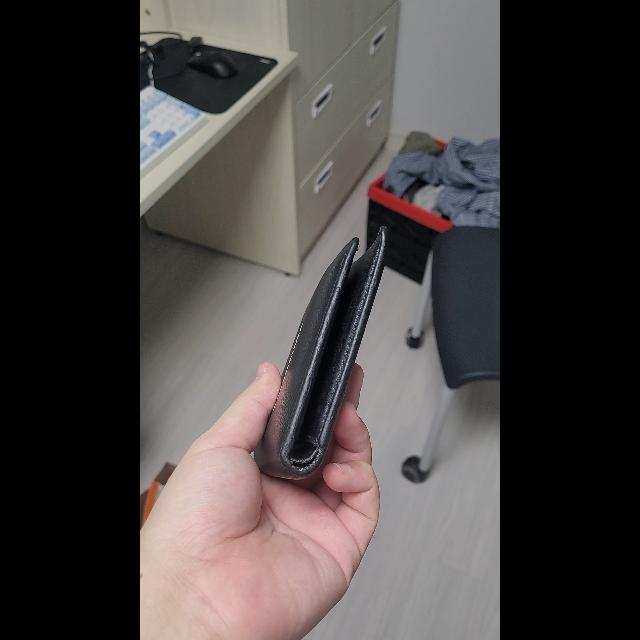WALLET: (253, 225, 387, 480)
